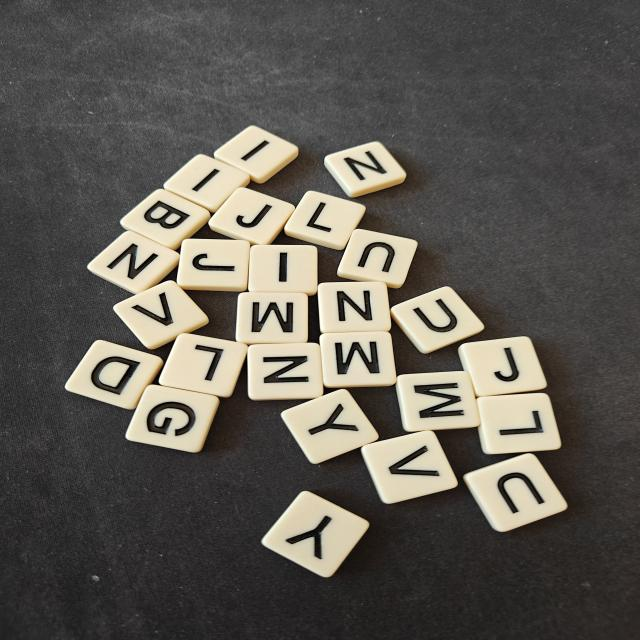b: (121, 189, 210, 250)
d: (65, 340, 163, 409)
g: (125, 385, 219, 452)
i: (164, 154, 250, 212), (214, 126, 298, 183), (248, 245, 318, 295)
j: (458, 336, 546, 397), (209, 188, 294, 245), (177, 239, 250, 292)
l: (160, 333, 248, 397), (477, 393, 561, 454), (284, 191, 365, 250)
m: (396, 371, 480, 432), (320, 331, 396, 388), (235, 292, 308, 345)
n: (87, 231, 179, 294), (324, 141, 406, 198), (247, 342, 323, 400), (318, 281, 391, 333)
u: (463, 453, 567, 531), (391, 286, 484, 353), (337, 228, 417, 288)
v: (361, 430, 458, 503), (113, 280, 209, 349)
y: (261, 491, 369, 577), (281, 389, 378, 463)
